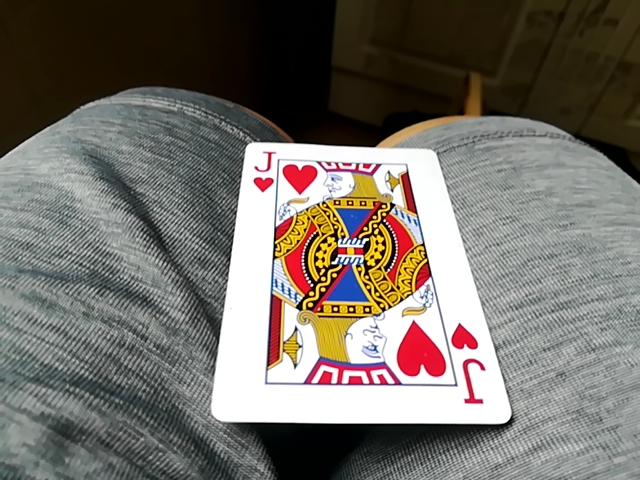hx j: (220, 142, 503, 431)
